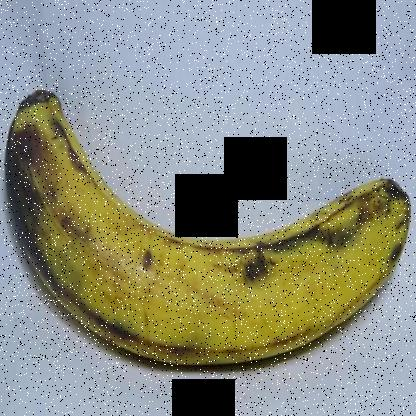ripe: (1, 72, 412, 378)
